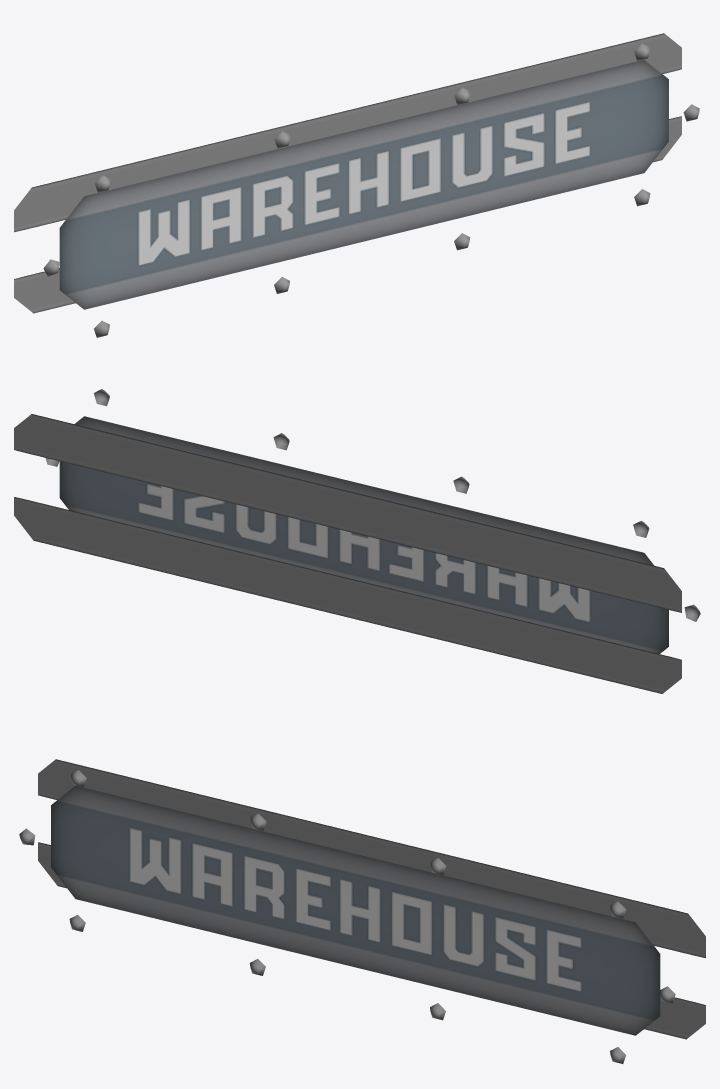
The model's file is obj_decor_sign_elevator.fbx.
The picture shows the model from 3 angles, top to bottom: view 1: azimuth 30°, elevation 25°; view 2: azimuth 150°, elevation 25°; view 3: azimuth 330°, elevation 25°; orthographic projection.
Parts seen in each view (by area): view 1: obj_decor_sign_elevator; view 2: obj_decor_sign_elevator; view 3: obj_decor_sign_elevator.
Boxes of the visible parts, x1,y1,x2,y2 form: obj_decor_sign_elevator: [14, 33, 699, 337]; obj_decor_sign_elevator: [14, 389, 700, 693]; obj_decor_sign_elevator: [19, 759, 705, 1063].
Size of the model in its own units: 8 by 2 by 0.5823.
